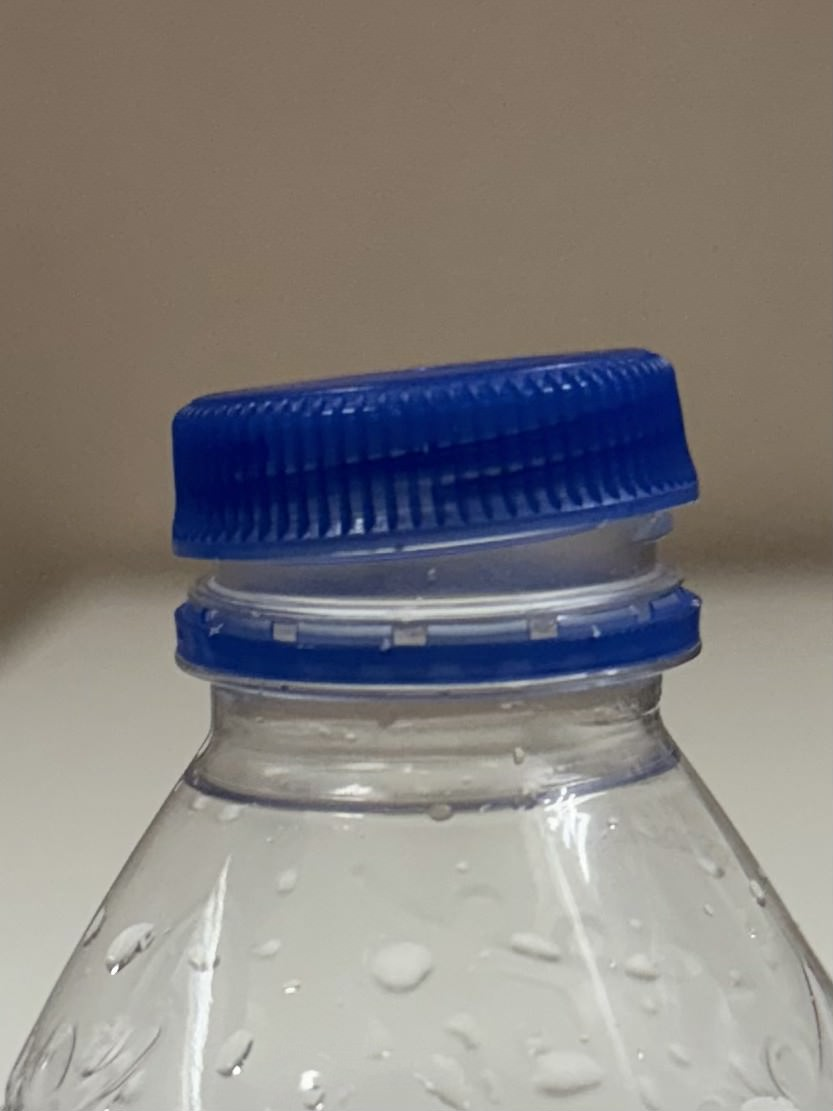half_cap: (166, 341, 703, 711)
